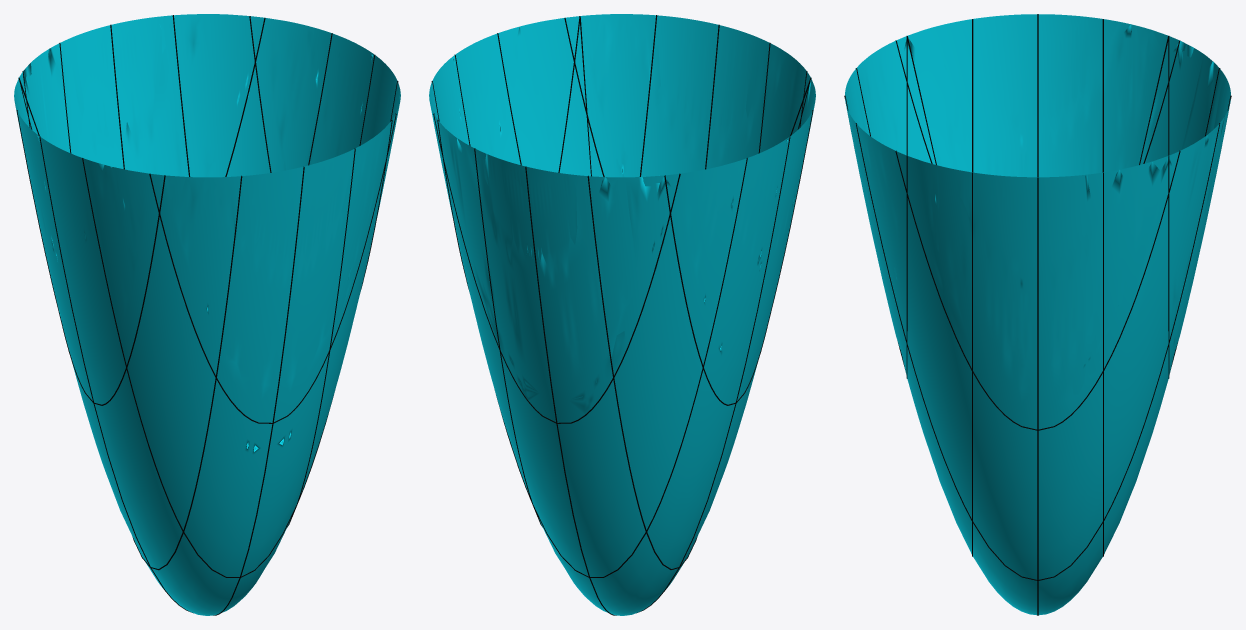
The model's file is 3dmodel.gltf.
3 renders of one model, left to right at view 1: azimuth 30°, elevation 25°; view 2: azimuth 150°, elevation 25°; view 3: azimuth 270°, elevation 25°, orthographic.
Visible parts, largest first — view 1: a_11, a_12, a_3, a_9, a_10, a_4, a_2, a_8, a_5, a; view 2: a_11, a_12, a_3, a_7, a_6, a_4, a_2, a_8, a, a_5; view 3: a_11, a_12, a_2, a_8, a, a_6, a_10, a_7, a_9.
Boxes of the visible parts, x1,y1,x2,y2 form: a_11: [14, 14, 400, 615]; a_12: [14, 14, 400, 514]; a_3: [110, 24, 304, 615]; a_9: [82, 81, 398, 577]; a_10: [149, 113, 396, 423]; a_4: [59, 43, 242, 570]; a_2: [172, 15, 355, 527]; a_8: [39, 55, 374, 613]; a_5: [22, 71, 165, 405]; a: [249, 16, 392, 289]; a_11: [429, 14, 815, 615]; a_12: [429, 14, 815, 514]; a_3: [525, 24, 719, 615]; a_7: [431, 81, 747, 577]; a_6: [433, 113, 680, 423]; a_4: [587, 43, 770, 569]; a_2: [474, 15, 657, 527]; a_8: [454, 54, 790, 613]; a: [437, 16, 591, 289]; a_5: [664, 71, 807, 405]; a_11: [846, 14, 1230, 615]; a_12: [845, 14, 1230, 504]; a_2: [855, 123, 1220, 580]; a_8: [1037, 14, 1038, 615]; a: [895, 150, 1180, 430]; a_6: [1139, 36, 1169, 378]; a_10: [906, 36, 936, 378]; a_7: [1102, 19, 1103, 556]; a_9: [972, 19, 973, 556].
Size of the model in its own units: 5.92 by 8.72 by 5.92.
